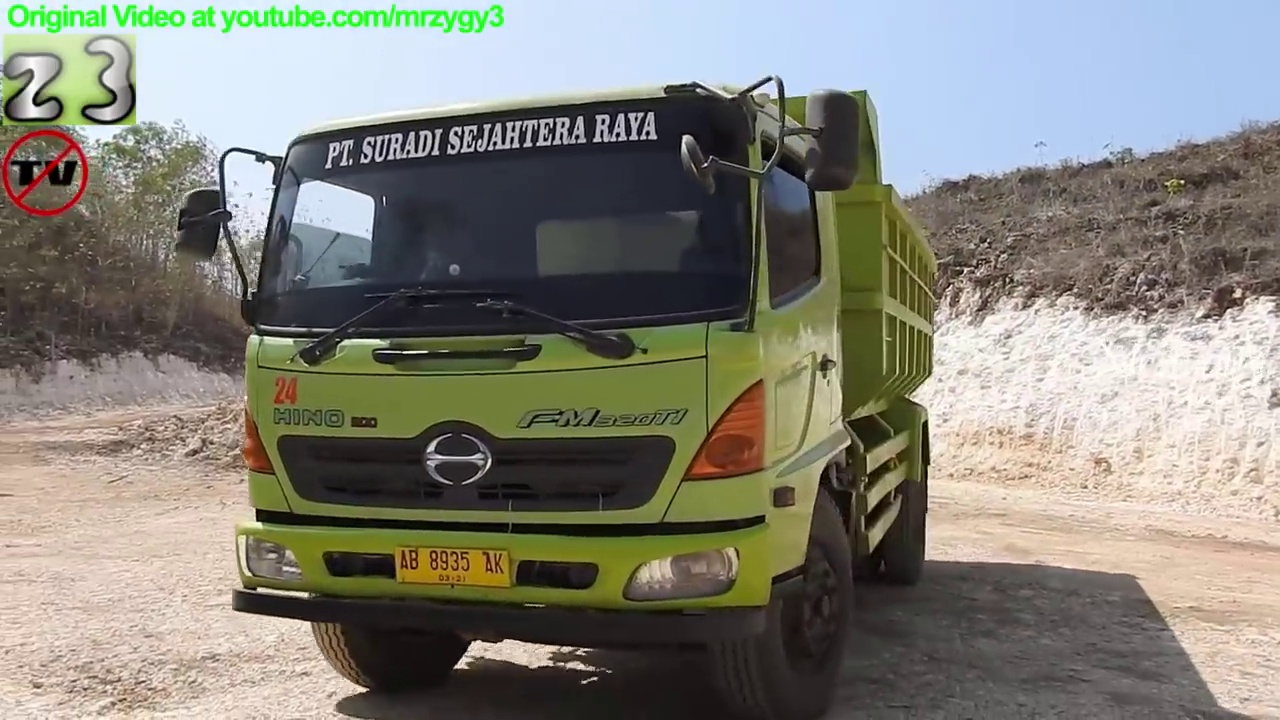truck: (165, 67, 949, 720)
